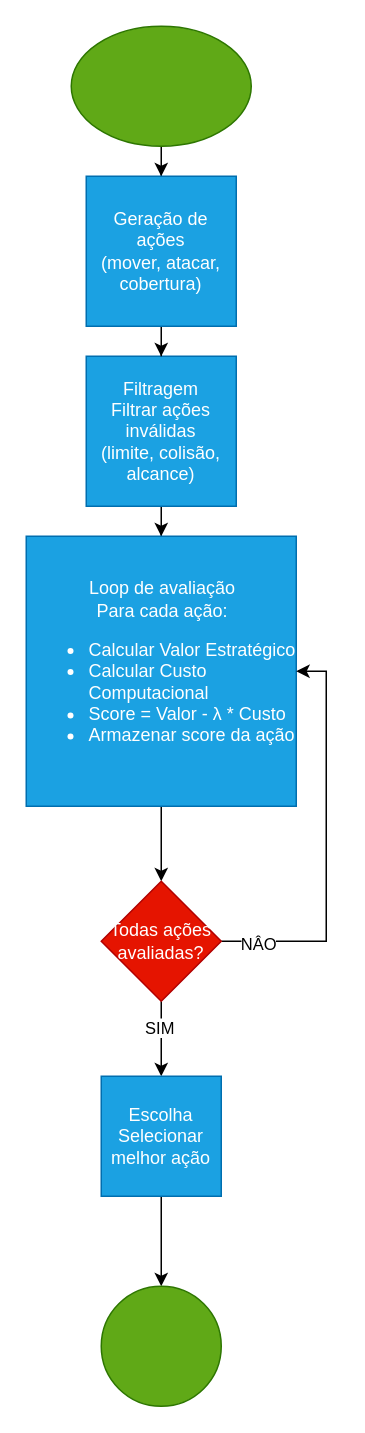
The diagram is 365 pixels wide and 1433 high, and some of its shapes have lost their labels. Each missing label, with the box of its shape:
FIM Retornar ação: (100, 1285, 221, 1406)
INÍCIO Estado Atual do Agente: (70, 25, 251, 146)
